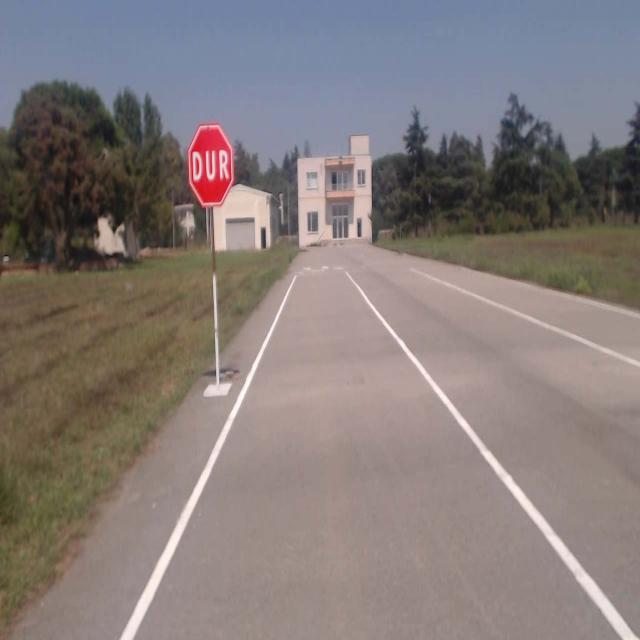dur: (188, 123, 234, 208)
